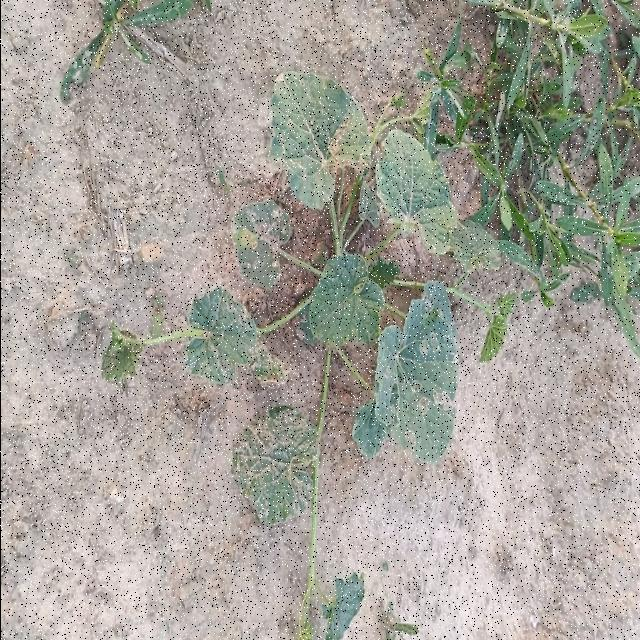plant: (103, 72, 512, 637), (322, 574, 362, 639)
